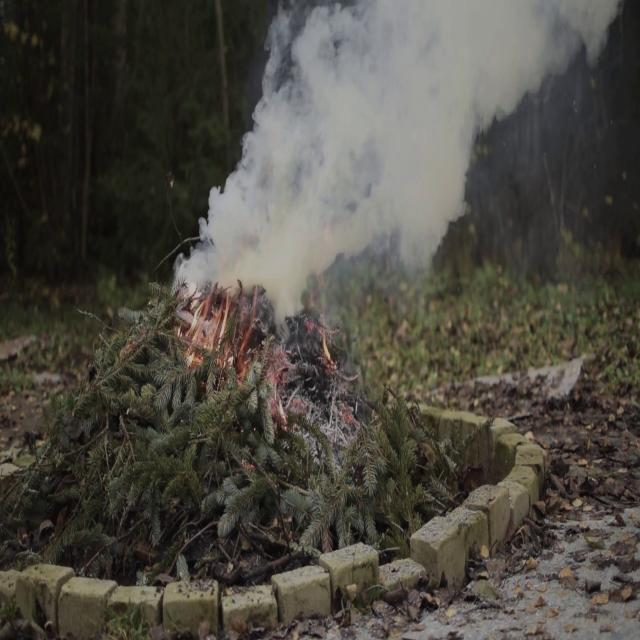Smoke: (176, 0, 591, 298), (176, 1, 586, 284)
